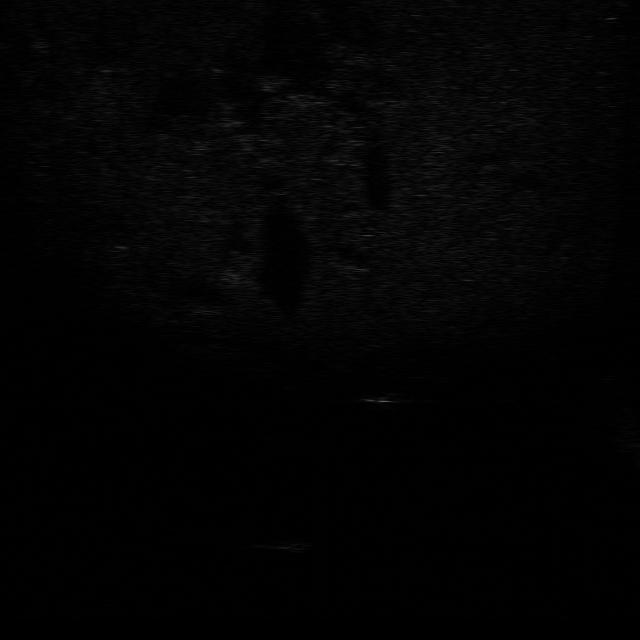cube: (254, 537, 308, 553)
square cage: (356, 394, 405, 406)
